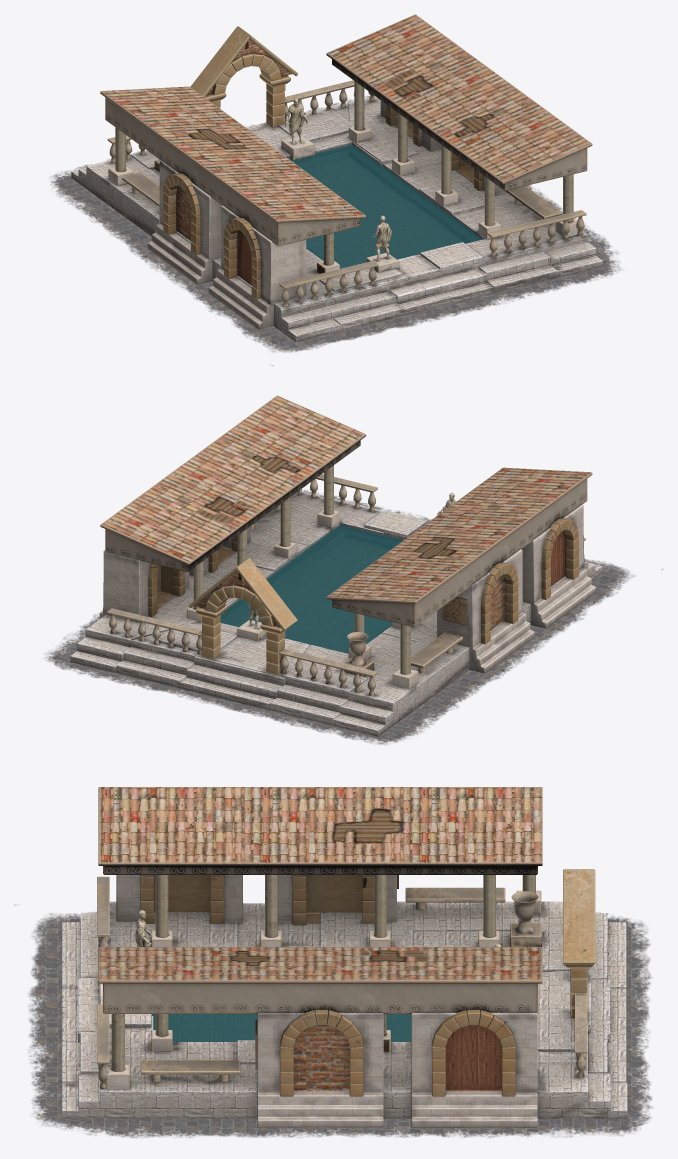
File: buildings-transformed.glb
3 renders of one model, top to bottom at view 1: azimuth 30°, elevation 25°; view 2: azimuth 150°, elevation 25°; view 3: azimuth 270°, elevation 25°, orthographic. The views are drawn at different scales.
Parts seen in each view (by area): view 1: defaultMaterial.005, defaultMaterial.004, defaultMaterial.003, defaultMaterial.006, defaultMaterial.001, defaultMaterial, defaultMaterial.002, defaultMaterial.008; view 2: defaultMaterial.005, defaultMaterial.004, defaultMaterial.003, defaultMaterial.001, defaultMaterial.006, defaultMaterial, defaultMaterial.002; view 3: defaultMaterial.005, defaultMaterial.004, defaultMaterial.003, defaultMaterial, defaultMaterial.006, defaultMaterial.002, defaultMaterial.001.
Boxes of the visible parts, box(x1,y1,x2,y2) form: defaultMaterial.005: box(100, 14, 592, 246); defaultMaterial.004: box(71, 96, 602, 341); defaultMaterial.003: box(147, 100, 531, 329); defaultMaterial.006: box(108, 26, 578, 273); defaultMaterial.001: box(289, 144, 482, 268); defaultMaterial: box(50, 96, 620, 366); defaultMaterial.002: box(107, 80, 586, 307); defaultMaterial.008: box(285, 98, 308, 144); defaultMaterial.005: box(100, 395, 592, 627); defaultMaterial.004: box(70, 492, 602, 736); defaultMaterial.003: box(95, 504, 595, 673); defaultMaterial.001: box(220, 525, 403, 653); defaultMaterial.006: box(187, 465, 418, 688); defaultMaterial: box(44, 490, 663, 744); defaultMaterial.002: box(107, 474, 585, 695); defaultMaterial.005: box(98, 787, 542, 1013); defaultMaterial.004: box(62, 901, 627, 1118); defaultMaterial.003: box(116, 875, 537, 1128); defaultMaterial: box(14, 904, 653, 1138); defaultMaterial.006: box(105, 869, 595, 1089); defaultMaterial.002: box(97, 876, 587, 1089); defaultMaterial.001: box(152, 1014, 411, 1041).
Bounding box in the file's own units: 190 × 57.69 × 217.
Materials: 9 (9 with a texture image).
